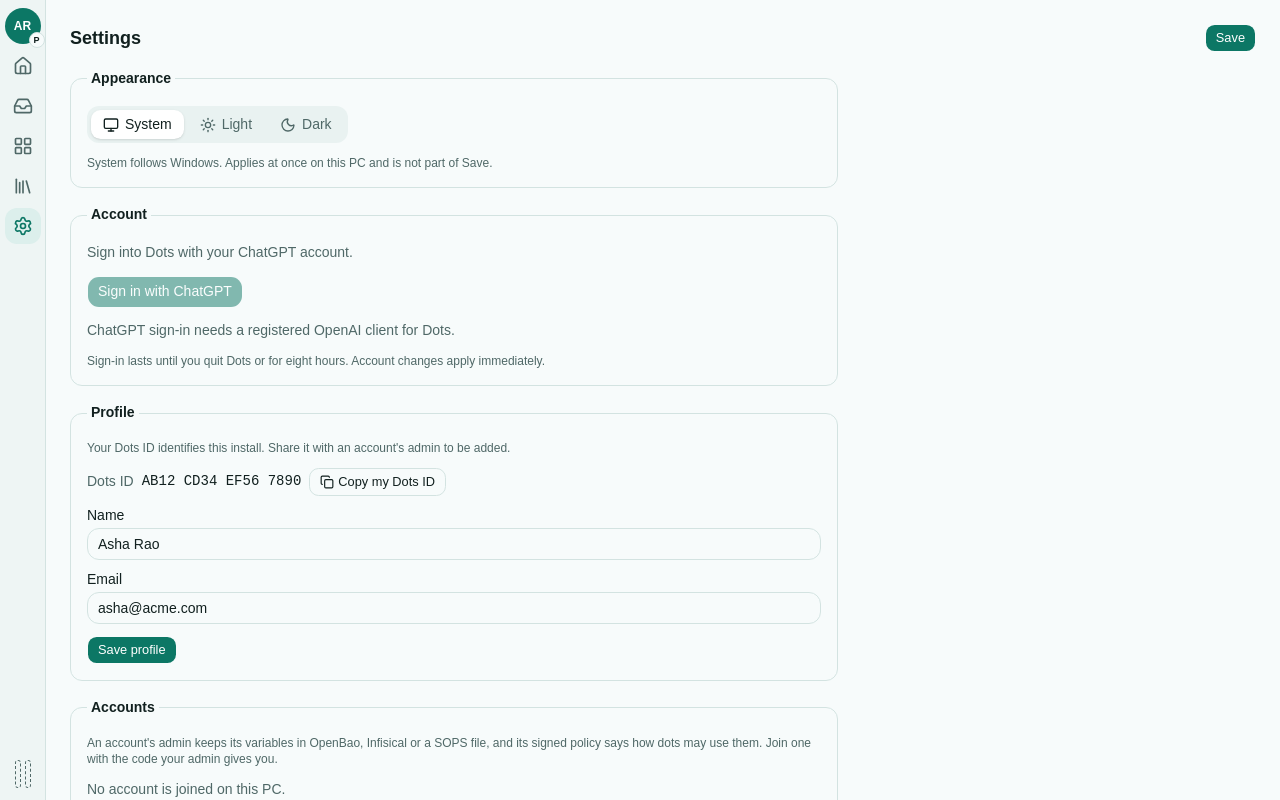
while the webview reports offline › loads the data of a screen opened meanwhile
The width and height of the screenshot is (1280, 800).
Check: the heading "Settings" is shown, box [70,28,141,48]
What coordinates should you click on to do the following:
click the link named "Home"
I would click on:
 (22, 66)
Its box is [12,56,32,76].
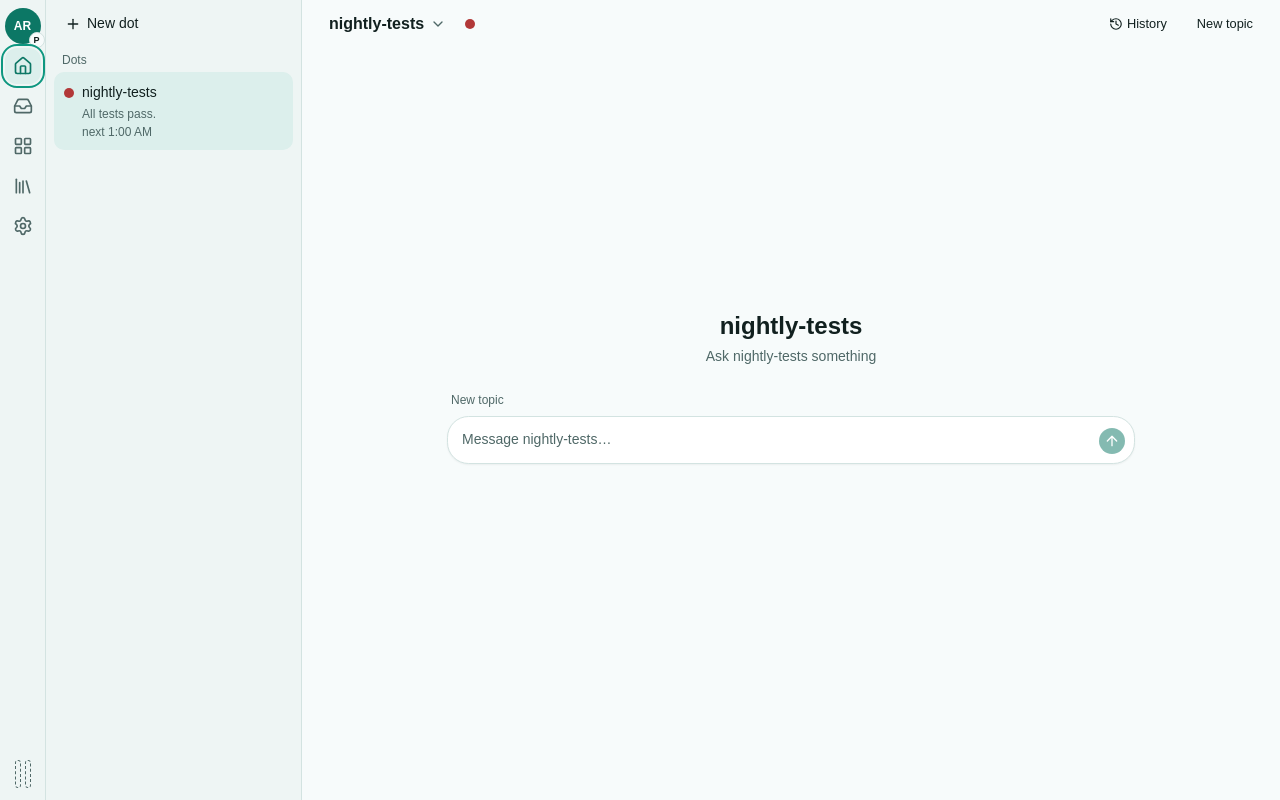
Check: the list item "nightly-tests" is shown, box [54,72,293,150]
